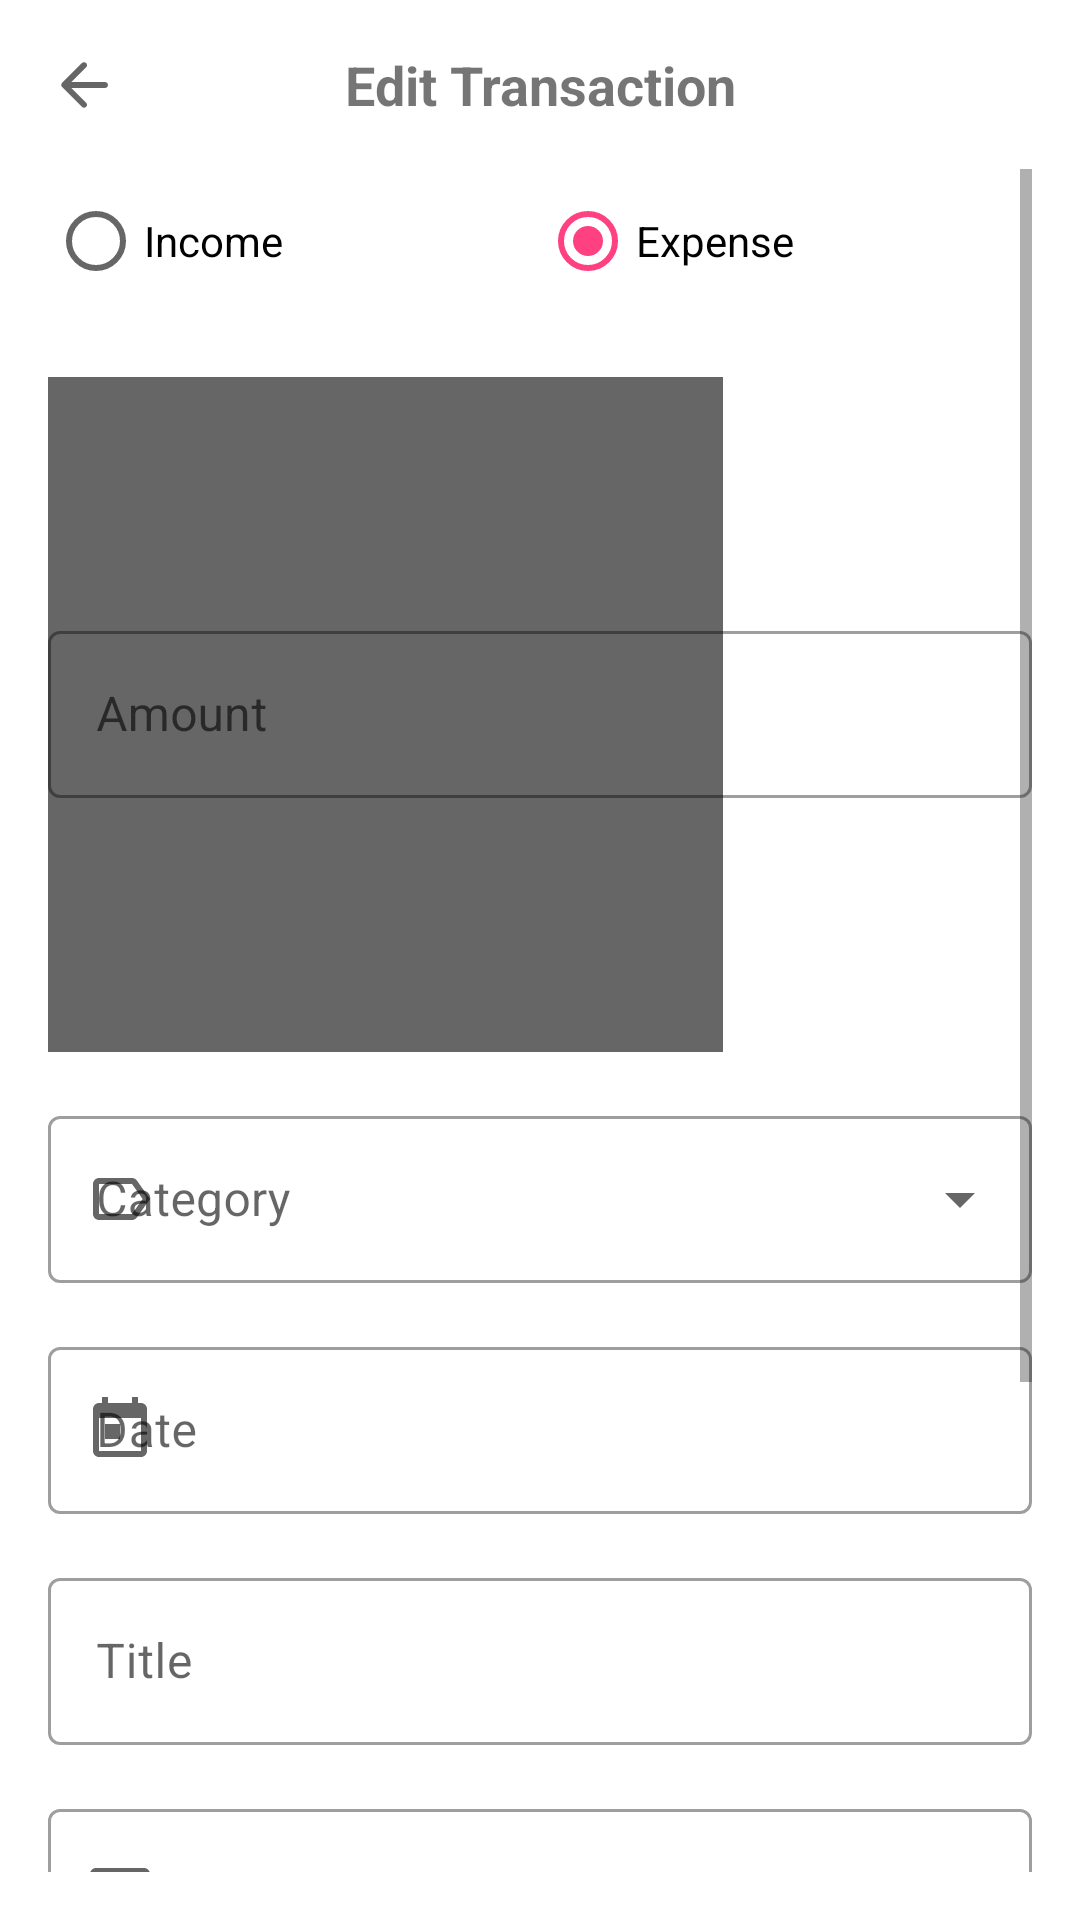

Icon bounding boxes for this 1080*1920 phone screenshot, format (x1, y1, x2, y2):
back: (61, 62, 108, 108)
